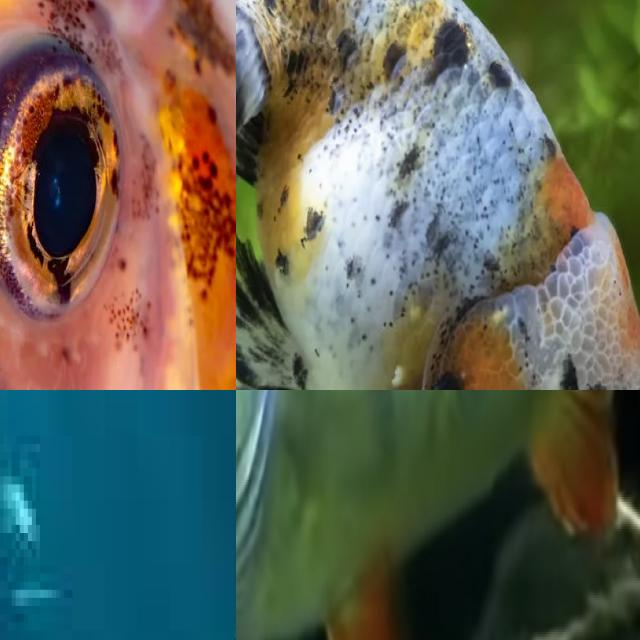fish: (0, 0, 236, 390), (236, 0, 491, 246), (0, 390, 236, 640), (236, 390, 640, 465)
